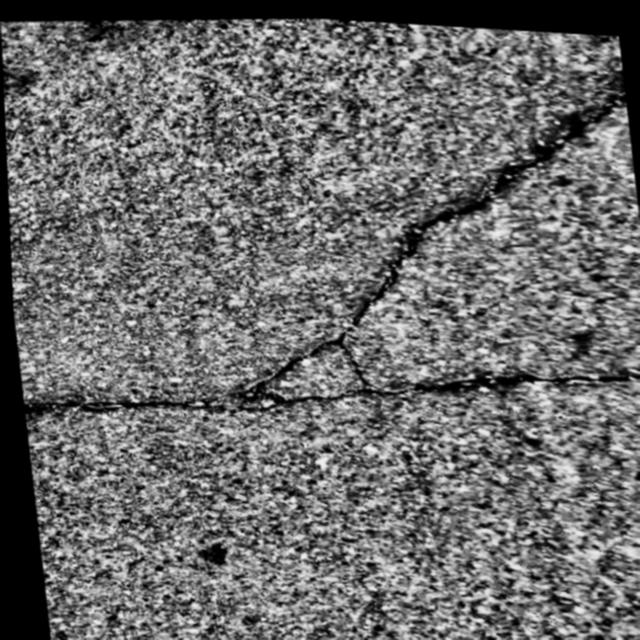cracks: (270, 105, 607, 375), (19, 366, 640, 417)
